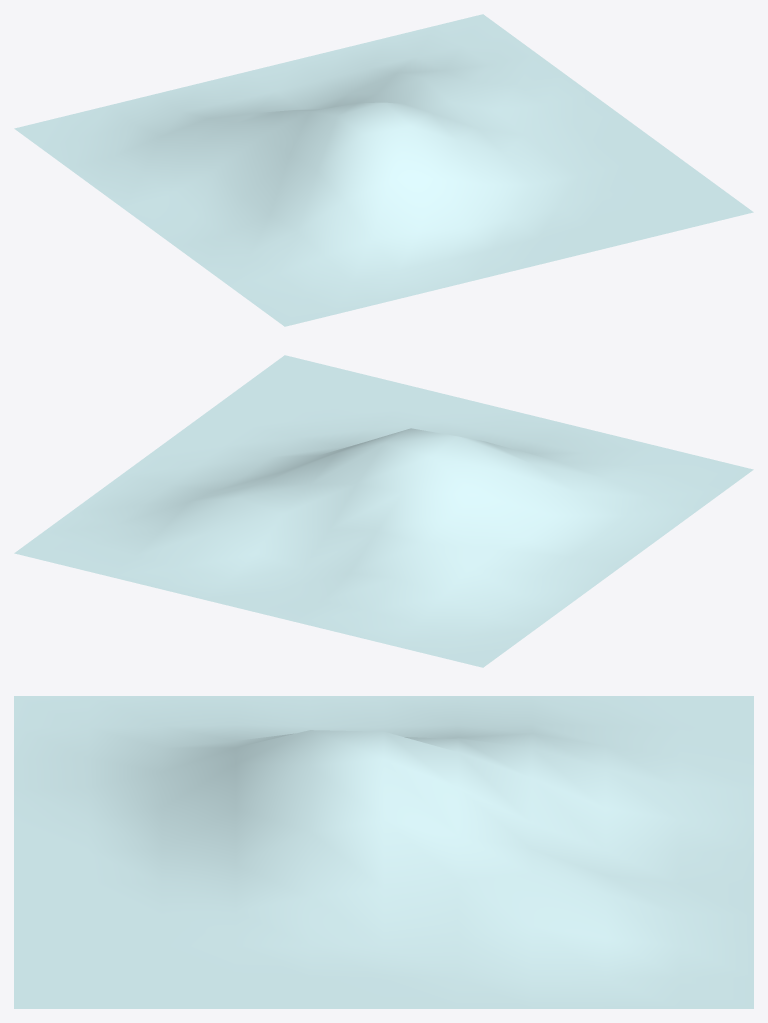
The model's file is SS_Terrain1.fbx.
3 renders of one model, top to bottom at view 1: azimuth 30°, elevation 25°; view 2: azimuth 150°, elevation 25°; view 3: azimuth 270°, elevation 25°, orthographic. The views are drawn at different scales.
Parts seen in each view (by area): view 1: Terrain1; view 2: Terrain1; view 3: Terrain1.
Boxes of the visible parts, x1,y1,x2,y2 form: Terrain1: (14, 14, 753, 326); Terrain1: (14, 355, 753, 667); Terrain1: (14, 696, 753, 1008).
Size of the model in its own units: 23.97 by 3.32 by 23.97.
